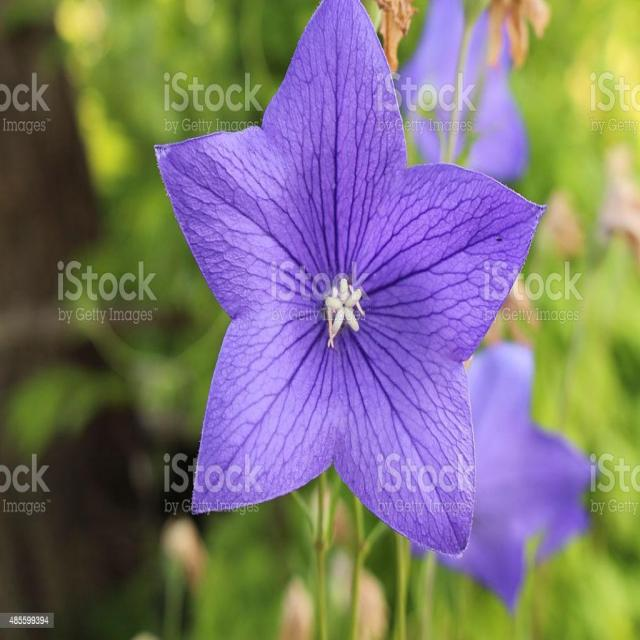organic waste: (142, 4, 552, 554)
